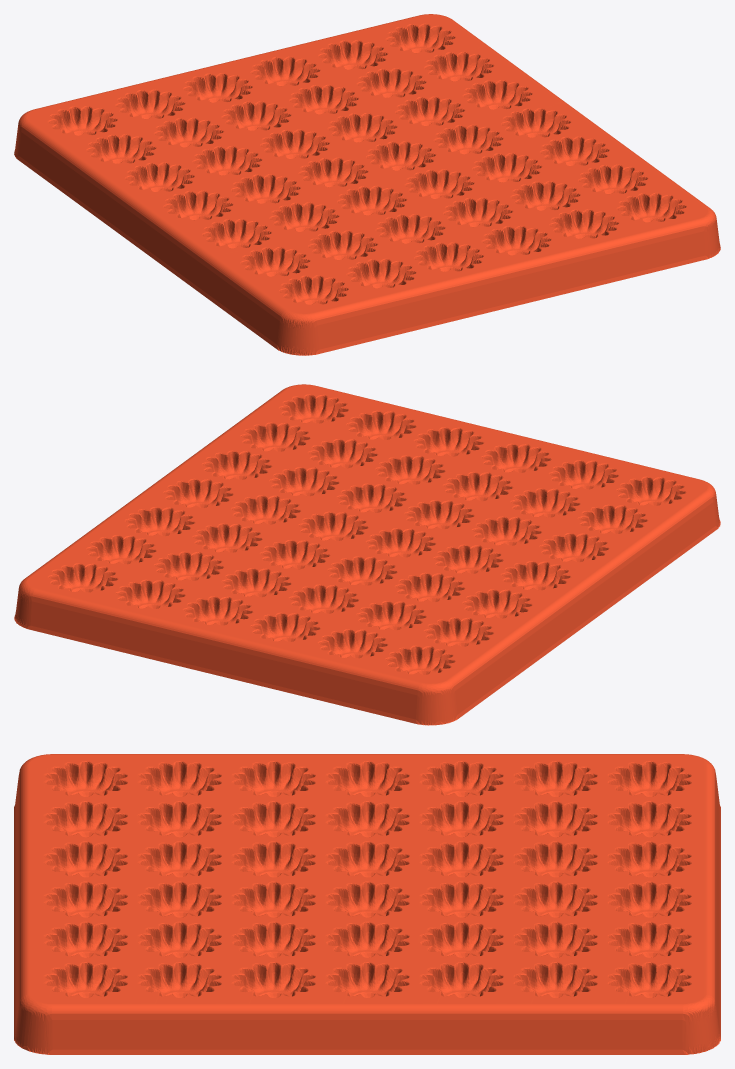
The model's file is mold.glb.
3 renders of one model, top to bottom at view 1: azimuth 30°, elevation 25°; view 2: azimuth 150°, elevation 25°; view 3: azimuth 270°, elevation 25°, orthographic. The views are drawn at different scales.
Parts seen in each view (by area): view 1: geometry_0; view 2: geometry_0; view 3: geometry_0.
Boxes of the visible parts, <box> form: geometry_0: <box>14,14,720,355</box>; geometry_0: <box>14,384,720,725</box>; geometry_0: <box>14,754,720,1054</box>.
Bounding box in the file's own units: 0.1437 × 0.0114 × 0.1638.
